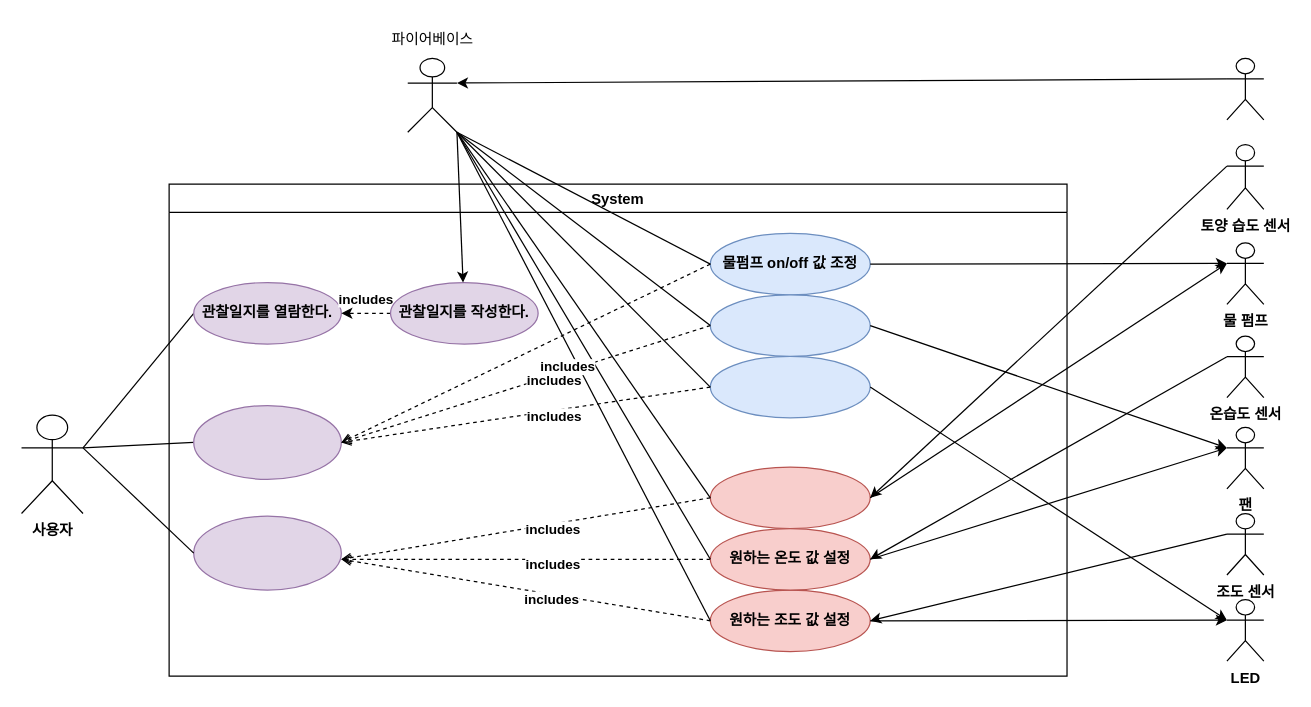
Image size: 1311x707. Some labels were removed from this diagram. The box of each missing label's shape, as (x1, y1, x2, y2) in pixels:
수동 물펌프/조명/팬 모드: (192, 404, 341, 479)
원하는 토양습도 값 설정: (709, 466, 870, 529)
자동 토양습도, 온도, 조도 조절 모드: (192, 515, 341, 590)
조명 on/off 값 조정: (709, 355, 870, 418)
카메라: (1226, 57, 1264, 120)
팬 on/off 값 조정: (709, 294, 870, 356)
